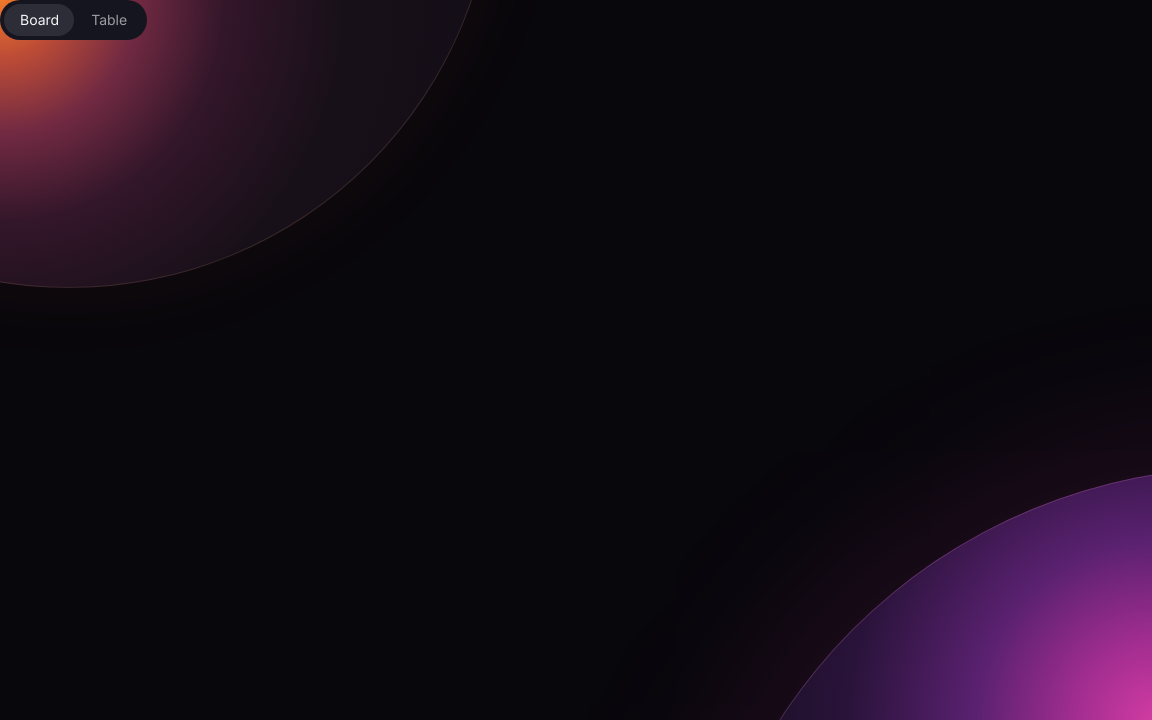
sliding pill › slides its left and width to the clicked option with the easing curve
Step 1. Click the button "Table" → (109, 20), box 75,4 -> 143,36
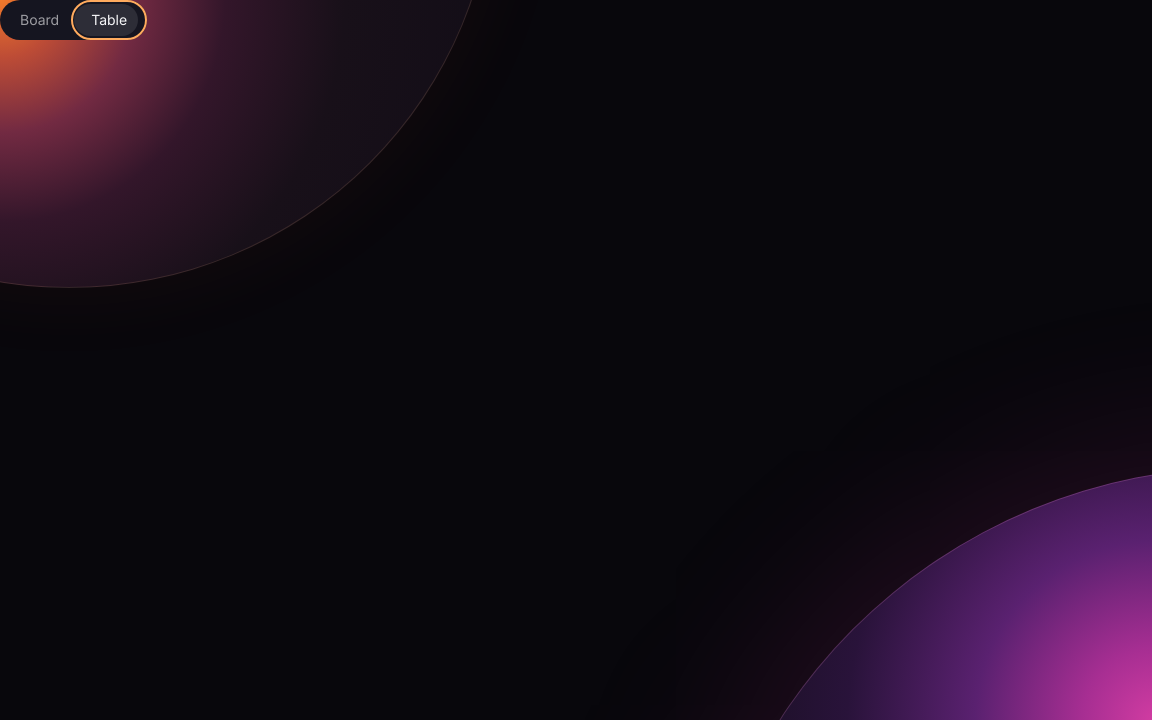
Result: the button "Table" is pressed at 75,4 -> 143,36
